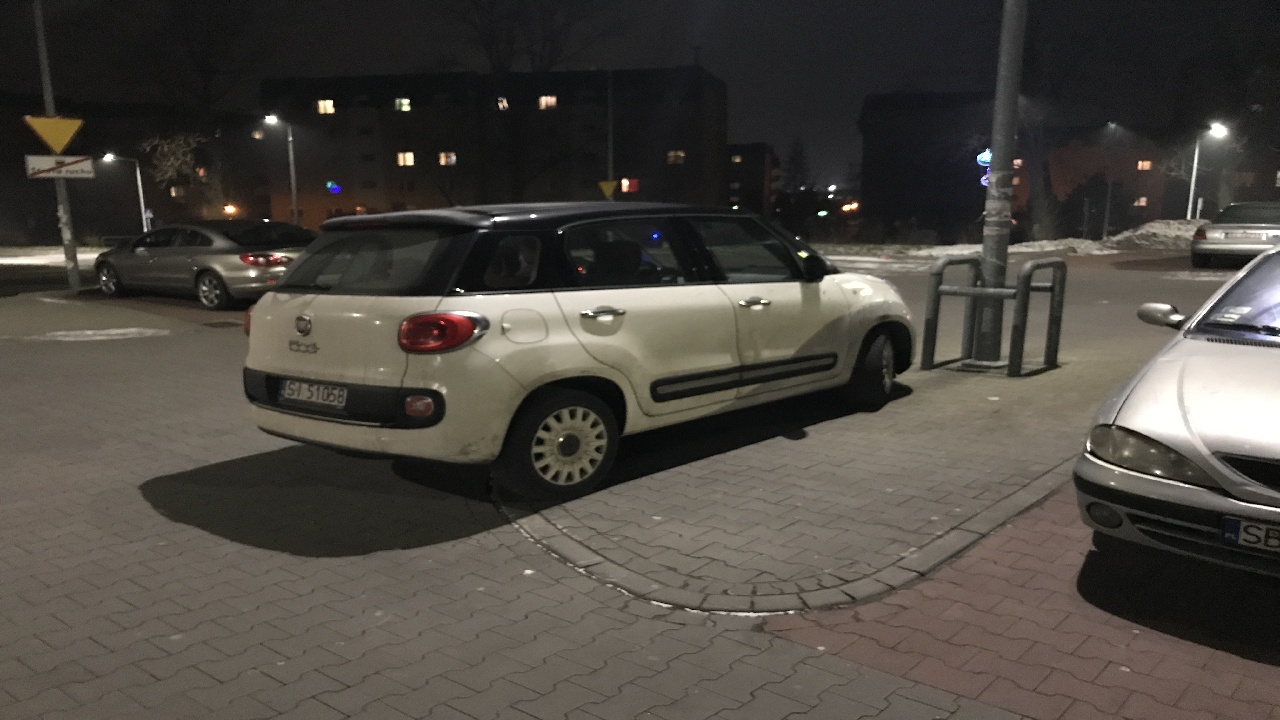A7: (18, 111, 89, 153)
